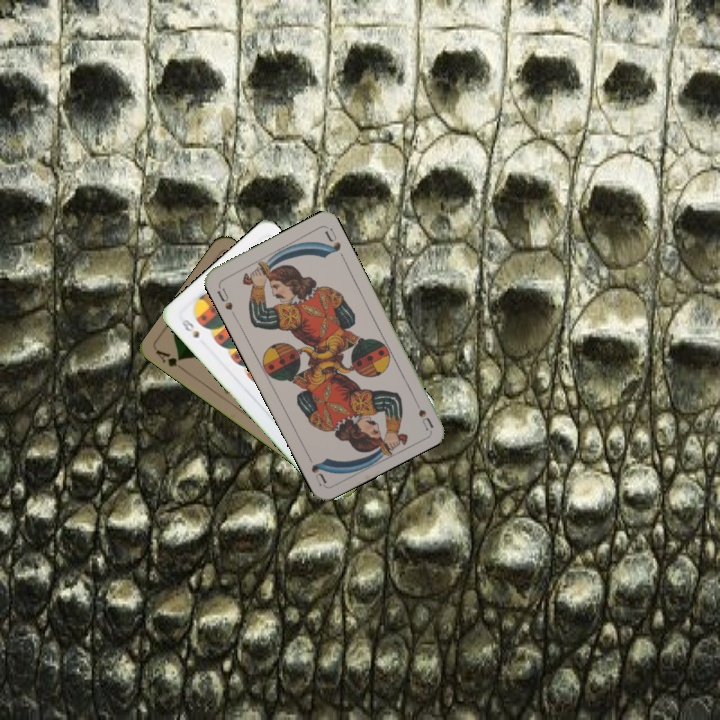GA: (152, 346, 189, 374)
S8: (177, 315, 202, 341)
SU: (409, 393, 436, 432), (213, 281, 238, 319)
